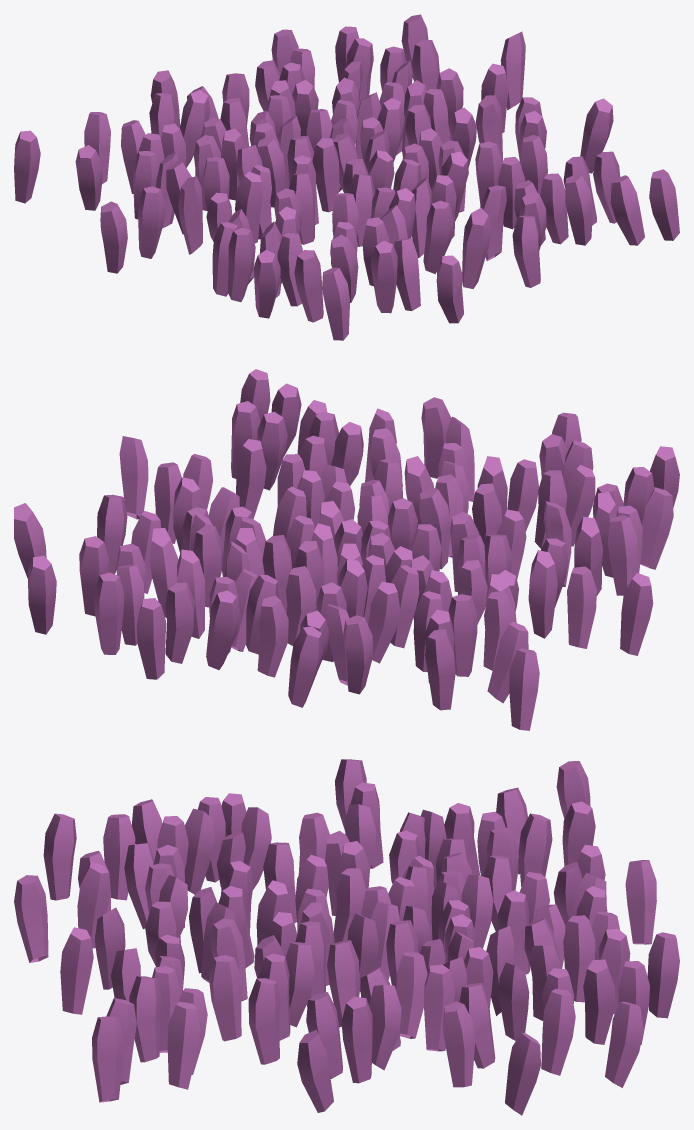
File: coral_symbiosis_B_medium.fbx
3 renders of one model, top to bottom at view 1: azimuth 30°, elevation 25°; view 2: azimuth 150°, elevation 25°; view 3: azimuth 270°, elevation 25°, orthographic. The views are drawn at different scales.
Parts seen in each view (by area): view 1: coral_symbiosis_B_medium; view 2: coral_symbiosis_B_medium; view 3: coral_symbiosis_B_medium.
Part boxes in pixels (x1,y1,x2,y2): coral_symbiosis_B_medium: [14, 14, 679, 340]; coral_symbiosis_B_medium: [14, 369, 679, 730]; coral_symbiosis_B_medium: [14, 759, 679, 1115].
Size of the model in its own units: 121 by 18.24 by 118.
